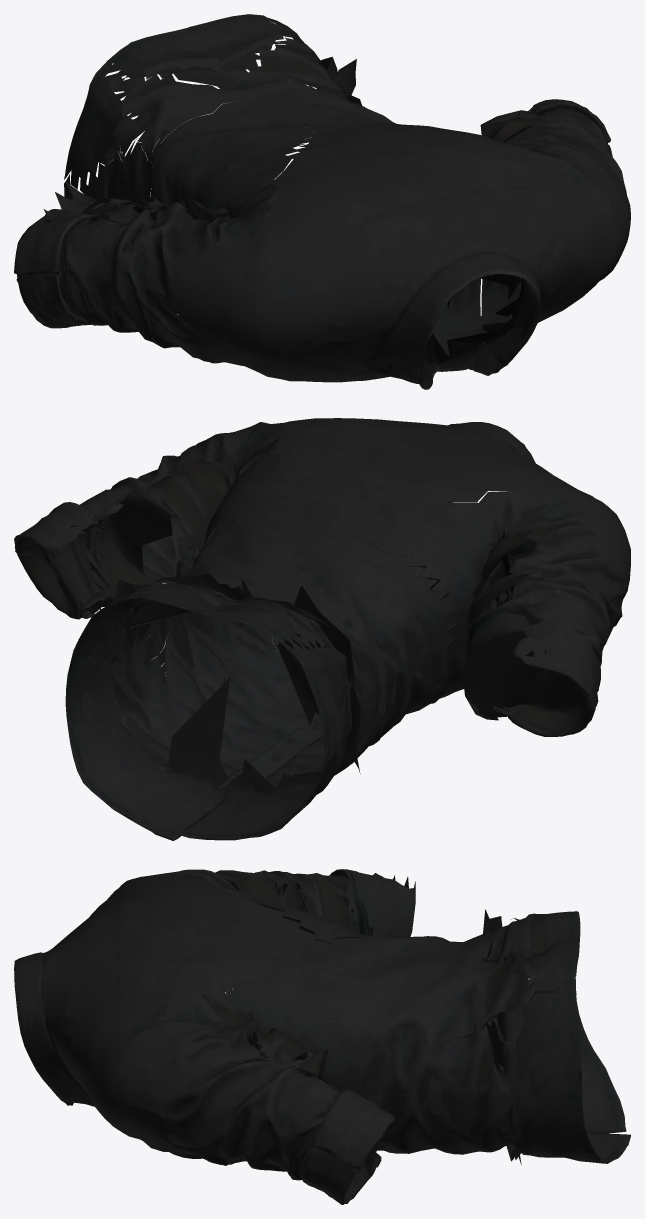
The model's file is adult-base-01.glb.
The picture shows the model from 3 angles, top to bottom: view 1: azimuth 30°, elevation 25°; view 2: azimuth 150°, elevation 25°; view 3: azimuth 270°, elevation 25°; orthographic projection. The views are drawn at different scales.
Parts seen in each view (by area): view 1: geometry_0; view 2: geometry_0; view 3: geometry_0.
Boxes of the visible parts, left/top/right/bottom form: geometry_0: left=14, top=14, right=630, bottom=389; geometry_0: left=14, top=418, right=630, bottom=840; geometry_0: left=14, top=869, right=630, bottom=1204.
Bounding box in the file's own units: 0.00813 × 0.00343 × 0.0078.
Materials: 1 (1 with a texture image).
